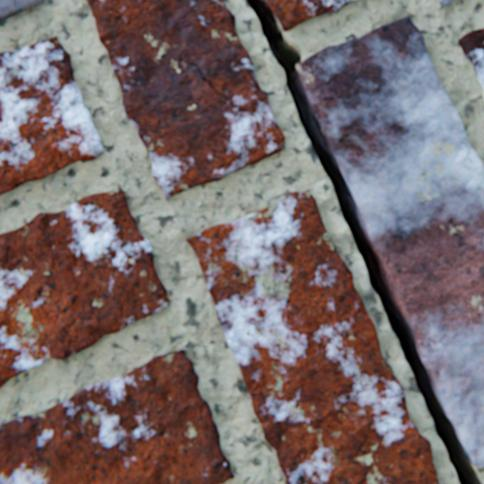brick: (296, 17, 483, 464), (187, 190, 438, 483), (87, 0, 285, 198), (0, 187, 170, 387), (0, 349, 234, 483), (0, 37, 103, 195), (267, 0, 360, 31), (457, 29, 483, 98), (0, 0, 45, 22), (438, 0, 453, 5)
crack: (246, 0, 483, 483), (185, 62, 219, 94), (238, 108, 255, 116), (222, 94, 232, 105), (256, 118, 263, 131)
